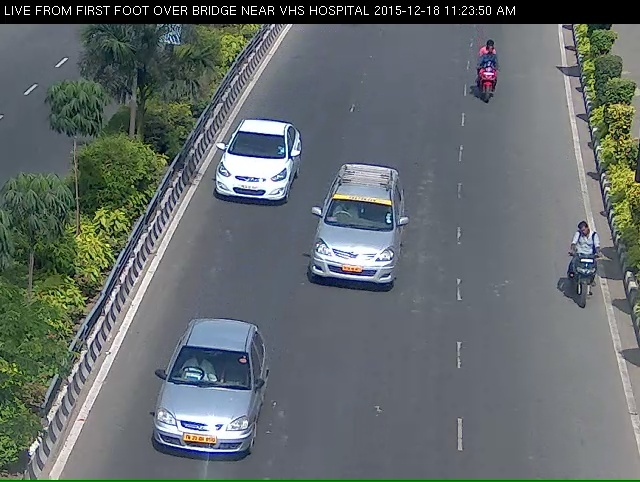Car: (135, 345, 261, 480), (300, 168, 402, 325), (202, 128, 294, 231)
Person: (567, 233, 606, 325), (477, 47, 505, 115)
